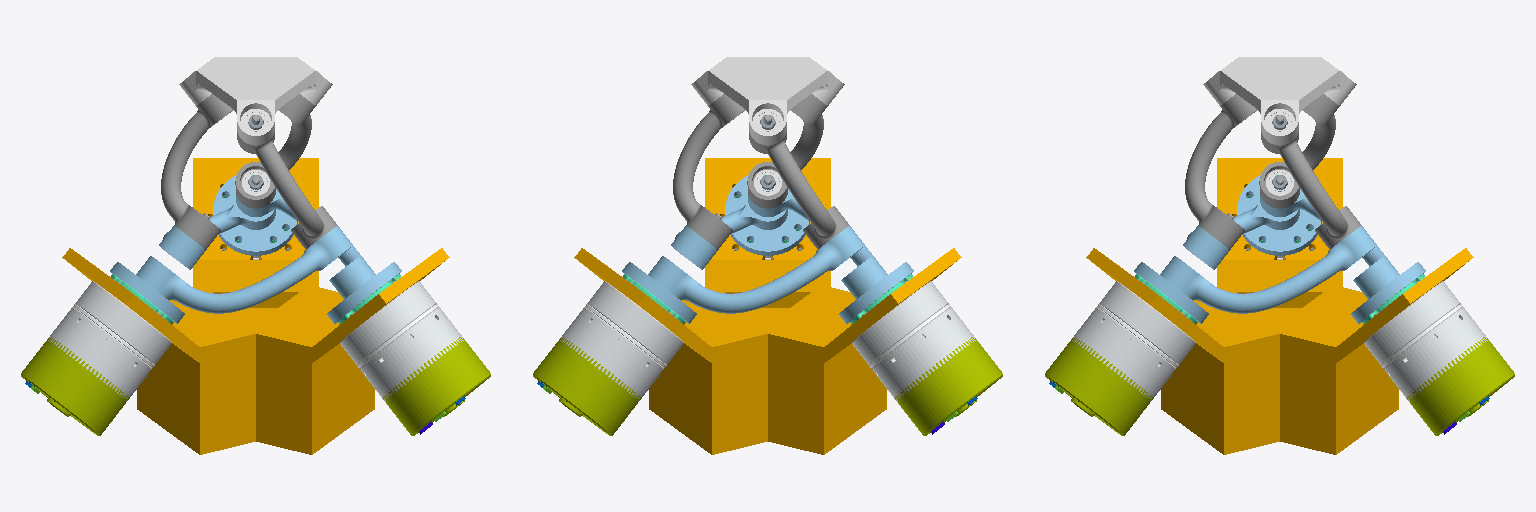
--- Facts derived from the render (not from the file) ---
The picture shows the robot from 3 angles, left to right: view 1: azimuth 30°, elevation 25°; view 2: azimuth 150°, elevation 25°; view 3: azimuth 270°, elevation 25°; orthographic projection.
Robot: spm — 13 links, 12 joints (7 revolute, 5 fixed); root link moteur_bati_v2; default pose: all joints at 0.
Visible links, largest first — view 1: moteur_bati_v2, 4_supporthead, 2_arbremoteur3, 2_arbremoteur3_3, 3_lien2_3, 3_lien2, 2_arbremoteur3_2, 3_lien2_2; view 2: moteur_bati_v2, 4_supporthead, 2_arbremoteur3_3, 2_arbremoteur3_2, 3_lien2_2, 3_lien2_3, 2_arbremoteur3, 3_lien2; view 3: moteur_bati_v2, 4_supporthead, 2_arbremoteur3_2, 2_arbremoteur3, 3_lien2, 3_lien2_2, 2_arbremoteur3_3, 3_lien2_3.
Boxes of the visible links, box(x1,y1,x2,y2) form: moteur_bati_v2: box(21, 158, 490, 454); 4_supporthead: box(179, 57, 332, 145); 2_arbremoteur3: box(110, 226, 352, 323); 2_arbremoteur3_3: box(159, 175, 297, 269); 3_lien2_3: box(161, 71, 233, 249); 3_lien2: box(237, 115, 337, 249); 2_arbremoteur3_2: box(236, 176, 401, 323); 3_lien2_2: box(236, 71, 319, 208); moteur_bati_v2: box(533, 158, 1002, 454); 4_supporthead: box(691, 57, 844, 145); 2_arbremoteur3_3: box(622, 226, 864, 323); 2_arbremoteur3_2: box(671, 175, 809, 269); 3_lien2_2: box(673, 71, 745, 249); 3_lien2_3: box(749, 115, 849, 249); 2_arbremoteur3: box(748, 176, 913, 323); 3_lien2: box(748, 71, 831, 208); moteur_bati_v2: box(1045, 158, 1514, 454); 4_supporthead: box(1203, 57, 1356, 145); 2_arbremoteur3_2: box(1134, 226, 1376, 323); 2_arbremoteur3: box(1183, 175, 1321, 269); 3_lien2: box(1185, 71, 1257, 249); 3_lien2_2: box(1261, 115, 1361, 249); 2_arbremoteur3_3: box(1260, 176, 1425, 323); 3_lien2_3: box(1260, 71, 1343, 208).
Bounding box of the posed robot: 0.1667 × 0.1862 × 0.146 m (x, y, z).
Meshes: 39 distinct files referenced, 125 mesh visuals loaded (38 binary STL); not drawn: 3 (reference not matched to a file when rendering).

The robot description file, URDF, robot "spm":
<?xml version="1.0" ?>
<!-- Generated using onshape-to-robot -->
<!-- Onshape https://cad.onshape.com/documents/d028fa2bf853f0c1089b2eda/w/07caf1293628e1642b8cee41/e/1a20b014b0a60532533cddf2 -->
<robot name="spm">
  <!-- Link moteur_bati_v2 -->
  <link name="moteur_bati_v2">
    <inertial>
      <origin xyz="-1.75928e-15 2.49372e-15 0.0444979" rpy="0 0 0"/>
      <mass value="0.925424"/>
      <inertia ixx="0.00239196" ixy="-7.45589e-17" ixz="5.10426e-17" iyy="0.00239196" iyz="-5.80928e-17" izz="0.00451909"/>
    </inertial>
    <!-- Part b08_cra_ri30_40_pro_xx_客户参考 -->
    <visual>
      <origin xyz="-0.0926361 0.0115732 0.0764594" rpy="2.35619 -2.01031e-14 1.5708"/>
      <geometry>
        <mesh filename="package://assets/b08_cra_ri30_40_pro_xx_客户参考.stl"/>
      </geometry>
      <material name="b08_cra_ri30_40_pro_xx_客户参考_material">
        <color rgba="1 1 1 1.0"/>
      </material>
    </visual>
    <!-- Part cra_ri30_40_pro_xx_后盖 -->
    <visual>
      <origin xyz="-0.0926361 0.0115732 0.0764594" rpy="2.35619 -2.01031e-14 1.5708"/>
      <geometry>
        <mesh filename="package://assets/cra_ri30_40_pro_xx_后盖.stl"/>
      </geometry>
      <material name="cra_ri30_40_pro_xx_后盖_material">
        <color rgba="0.690196 0.764706 0.0196078 1.0"/>
      </material>
    </visual>
    <!-- Part extruded_4_2 -->
    <visual>
      <origin xyz="-0.0926361 0.0115732 0.0764594" rpy="2.35619 -2.01031e-14 1.5708"/>
      <geometry>
        <mesh filename="package://assets/extruded_4_2.stl"/>
      </geometry>
      <material name="extruded_4_2_material">
        <color rgba="0.960784 0.796078 0.207843 1.0"/>
      </material>
    </visual>
    <!-- Part 1_bati3 -->
    <visual>
      <origin xyz="0.0280564 -0.0254488 0.0198908" rpy="0.785398 -0 0.523599"/>
      <geometry>
        <mesh filename="package://assets/1_bati3.stl"/>
      </geometry>
      <material name="1_bati3_material">
        <color rgba="0.980392 0.713725 0.00392157 1.0"/>
      </material>
    </visual>
    <!-- Part extruded_6 -->
    <visual>
      <origin xyz="-0.0926361 0.0115732 0.0764594" rpy="2.35619 -2.01031e-14 1.5708"/>
      <geometry>
        <mesh filename="package://assets/extruded_6.stl"/>
      </geometry>
      <material name="extruded_6_material">
        <color rgba="0.00784314 0.392157 0.72549 1.0"/>
      </material>
    </visual>
    <!-- Part extruded_1 -->
    <visual>
      <origin xyz="-0.0926361 0.0115732 0.0764594" rpy="2.35619 -2.01031e-14 1.5708"/>
      <geometry>
        <mesh filename="package://assets/extruded_1.stl"/>
      </geometry>
      <material name="extruded_1_material">
        <color rgba="0.14902 0.180392 0.435294 1.0"/>
      </material>
    </visual>
    <!-- Part cra_ri30_40_xx_柔轮盖 -->
    <visual>
      <origin xyz="-0.0926361 0.0115732 0.0764594" rpy="2.35619 -2.01031e-14 1.5708"/>
      <geometry>
        <mesh filename="package://assets/cra_ri30_40_xx_柔轮盖.stl"/>
      </geometry>
      <material name="cra_ri30_40_xx_柔轮盖_material">
        <color rgba="0.368627 0.941176 0.733333 1.0"/>
      </material>
    </visual>
    <!-- Part cross_recessed_countersunk_head_screws_gb1_gb_cross_screws_type4_m2x10_8_8__h_type_n_5 -->
    <visual>
      <origin xyz="-0.0926361 0.0115732 0.0764594" rpy="2.35619 -2.01031e-14 1.5708"/>
      <geometry>
        <mesh filename="package://assets/cross_recessed_countersunk_head_screws_gb1_gb_cross_screws_type4_m2x10_8_8__h_type_n_5.stl"/>
      </geometry>
      <material name="cross_recessed_countersunk_head_screws_gb1_gb_cross_screws_type4_m2x10_8_8__h_type_n_5_material">
        <color rgba="0.776471 0.756863 0.737255 1.0"/>
      </material>
    </visual>
    <!-- Part extruded_4_4 -->
    <visual>
      <origin xyz="-0.0926361 0.0115732 0.0764594" rpy="2.35619 -2.01031e-14 1.5708"/>
      <geometry>
        <mesh filename="package://assets/extruded_4_4.stl"/>
      </geometry>
      <material name="extruded_4_4_material">
        <color rgba="0.960784 0.796078 0.207843 1.0"/>
      </material>
    </visual>
    <!-- Part user_library_0805_2012m__cap -->
    <visual>
      <origin xyz="-0.0926361 0.0115732 0.0764594" rpy="2.35619 -2.01031e-14 1.5708"/>
      <geometry>
        <mesh filename="package://assets/user_library_0805_2012m__cap.stl"/>
      </geometry>
      <material name="user_library_0805_2012m__cap_material">
        <color rgba="0.0196078 0.498039 0.341176 1.0"/>
      </material>
    </visual>
    <!-- Part extruded_2 -->
    <visual>
      <origin xyz="-0.0926361 0.0115732 0.0764594" rpy="2.35619 -2.01031e-14 1.5708"/>
      <geometry>
        <mesh filename="package://assets/extruded_2.stl"/>
      </geometry>
      <material name="extruded_2_material">
        <color rgba="0.176471 0.0431373 0.792157 1.0"/>
      </material>
    </visual>
    <!-- Part user_library_0805_2012m__cap_2 -->
    <visual>
      <origin xyz="-0.0926361 0.0115732 0.0764594" rpy="2.35619 -2.01031e-14 1.5708"/>
      <geometry>
        <mesh filename="package://assets/user_library_0805_2012m__cap__2.stl"/>
      </geometry>
      <material name="user_library_0805_2012m__cap_2_material">
        <color rgba="1 1 1 1.0"/>
      </material>
    </visual>
    <!-- Part user_library_0805_2012m__cap_3 -->
    <visual>
      <origin xyz="-0.0926361 0.0115732 0.0764594" rpy="2.35619 -2.01031e-14 1.5708"/>
      <geometry>
        <mesh filename="package://assets/user_library_0805_2012m__cap__3.stl"/>
      </geometry>
      <material name="user_library_0805_2012m__cap_3_material">
        <color rgba="0.0196078 0.498039 0.341176 1.0"/>
      </material>
    </visual>
    <!-- Part extruded -->
    <visual>
      <origin xyz="-0.0926361 0.0115732 0.0764594" rpy="2.35619 -2.01031e-14 1.5708"/>
      <geometry>
        <mesh filename="package://assets/extruded.stl"/>
      </geometry>
      <material name="extruded_material">
        <color rgba="0.14902 0.180392 0.435294 1.0"/>
      </material>
    </visual>
    <!-- Part extruded_4_3 -->
    <visual>
      <origin xyz="-0.0926361 0.0115732 0.0764594" rpy="2.35619 -2.01031e-14 1.5708"/>
      <geometry>
        <mesh filename="package://assets/extruded_4_3.stl"/>
      </geometry>
      <material name="extruded_4_3_material">
        <color rgba="0.960784 0.796078 0.207843 1.0"/>
      </material>
    </visual>
    <!-- Part cra_ri30_40_xx_b_电机壳_1 -->
    <visual>
      <origin xyz="-0.0926361 0.0115732 0.0764594" rpy="2.35619 -2.01031e-14 1.5708"/>
      <geometry>
        <mesh filename="package://assets/cra_ri30_40_xx_b_电机壳_1.stl"/>
      </geometry>
      <material name="cra_ri30_40_xx_b_电机壳_1_material">
        <color rgba="0.898039 0.917647 0.929412 1.0"/>
      </material>
    </visual>
    <!-- Part cross_recessed_countersunk_head_screws_gb1_gb_cross_screws_type4_m2x10_8_8__h_type_n_2 -->
    <visual>
      <origin xyz="-0.0926361 0.0115732 0.0764594" rpy="2.35619 -2.01031e-14 1.5708"/>
      <geometry>
        <mesh filename="package://assets/cross_recessed_countersunk_head_screws_gb1_gb_cross_screws_type4_m2x10_8_8__h_type_n_2.stl"/>
      </geometry>
      <material name="cross_recessed_countersunk_head_screws_gb1_gb_cross_screws_type4_m2x10_8_8__h_type_n_2_material">
        <color rgba="0.776471 0.756863 0.737255 1.0"/>
      </material>
    </visual>
    <!-- Part cross_recessed_countersunk_head_screws_gb1_gb_cross_screws_type4_m2x10_8_8__h_type_n_6 -->
    <visual>
      <origin xyz="-0.0926361 0.0115732 0.0764594" rpy="2.35619 -2.01031e-14 1.5708"/>
      <geometry>
        <mesh filename="package://assets/cross_recessed_countersunk_head_screws_gb1_gb_cross_screws_type4_m2x10_8_8__h_type_n_6.stl"/>
      </geometry>
      <material name="cross_recessed_countersunk_head_screws_gb1_gb_cross_screws_type4_m2x10_8_8__h_type_n_6_material">
        <color rgba="0.776471 0.756863 0.737255 1.0"/>
      </material>
    </visual>
    <!-- Part lsg_8_减速器外圈固定_1 -->
    <visual>
      <origin xyz="-0.0926361 0.0115732 0.0764594" rpy="2.35619 -2.01031e-14 1.5708"/>
      <geometry>
        <mesh filename="package://assets/lsg_8_减速器外圈固定_1.stl"/>
      </geometry>
      <material name="lsg_8_减速器外圈固定_1_material">
        <color rgba="0.898039 0.917647 0.929412 1.0"/>
      </material>
    </visual>
    <!-- Part extruded_0 -->
    <visual>
      <origin xyz="-0.0926361 0.0115732 0.0764594" rpy="2.35619 -2.01031e-14 1.5708"/>
      <geometry>
        <mesh filename="package://assets/extruded_0.stl"/>
      </geometry>
      <material name="extruded_0_material">
        <color rgba="0.105882 0.580392 0.14902 1.0"/>
      </material>
    </visual>
    <!-- Part hexagon_socket_head_cap_screws_gb_gb_fastener_screws_hshcs_m2x20_n -->
    <visual>
      <origin xyz="-0.0926361 0.0115732 0.0764594" rpy="2.35619 -2.01031e-14 1.5708"/>
      <geometry>
        <mesh filename="package://assets/hexagon_socket_head_cap_screws_gb_gb_fastener_screws_hshcs_m2x20_n.stl"/>
      </geometry>
      <material name="hexagon_socket_head_cap_screws_gb_gb_fastener_screws_hshcs_m2x20_n_material">
        <color rgba="0.776471 0.756863 0.737255 1.0"/>
      </material>
    </visual>
    <!-- Part cross_recessed_countersunk_head_screws_gb1_gb_cross_screws_type4_m2x10_8_8__h_type_n_4 -->
    <visual>
      <origin xyz="-0.0926361 0.0115732 0.0764594" rpy="2.35619 -2.01031e-14 1.5708"/>
      <geometry>
        <mesh filename="package://assets/cross_recessed_countersunk_head_screws_gb1_gb_cross_screws_type4_m2x10_8_8__h_type_n_4.stl"/>
      </geometry>
      <material name="cross_recessed_countersunk_head_screws_gb1_gb_cross_screws_type4_m2x10_8_8__h_type_n_4_material">
        <color rgba="0.776471 0.756863 0.737255 1.0"/>
      </material>
    </visual>
    <!-- Part extruded_1_2 -->
    <visual>
      <origin xyz="-0.0926361 0.0115732 0.0764594" rpy="2.35619 -2.01031e-14 1.5708"/>
      <geometry>
        <mesh filename="package://assets/extruded_1__2.stl"/>
      </geometry>
      <material name="extruded_1_2_material">
        <color rgba="0.435294 0.792157 0.176471 1.0"/>
      </material>
    </visual>
    <!-- Part cross_recessed_countersunk_head_screws_gb1_gb_cross_screws_type4_m2x10_8_8__h_type_n_1 -->
    <visual>
      <origin xyz="-0.0926361 0.0115732 0.0764594" rpy="2.35619 -2.01031e-14 1.5708"/>
      <geometry>
        <mesh filename="package://assets/cross_recessed_countersunk_head_screws_gb1_gb_cross_screws_type4_m2x10_8_8__h_type_n_1.stl"/>
      </geometry>
      <material name="cross_recessed_countersunk_head_screws_gb1_gb_cross_screws_type4_m2x10_8_8__h_type_n_1_material">
        <color rgba="0.776471 0.756863 0.737255 1.0"/>
      </material>
    </visual>
    <!-- Part extruded_4_5 -->
    <visual>
      <origin xyz="-0.0926361 0.0115732 0.0764594" rpy="2.35619 -2.01031e-14 1.5708"/>
      <geometry>
        <mesh filename="package://assets/extruded_4_5.stl"/>
      </geometry>
      <material name="extruded_4_5_material">
        <color rgba="0.960784 0.796078 0.207843 1.0"/>
      </material>
    </visual>
    <!-- Part lsg_08_柔轮 -->
    <visual>
      <origin xyz="-0.0926361 0.0115732 0.0764594" rpy="2.35619 -2.01031e-14 1.5708"/>
      <geometry>
        <mesh filename="package://assets/lsg_08_柔轮.stl"/>
      </geometry>
      <material name="lsg_08_柔轮_material">
        <color rgba="1 1 1 1.0"/>
      </material>
    </visual>
    <!-- Part hexagon_socket_head_cap_screws_gb_gb_fastener_screws_hshcs_m2x20_n_1 -->
    <visual>
      <origin xyz="-0.0926361 0.0115732 0.0764594" rpy="2.35619 -2.01031e-14 1.5708"/>
      <geometry>
        <mesh filename="package://assets/hexagon_socket_head_cap_screws_gb_gb_fastener_screws_hshcs_m2x20_n_1.stl"/>
      </geometry>
      <material name="hexagon_socket_head_cap_screws_gb_gb_fastener_screws_hshcs_m2x20_n_1_material">
        <color rgba="0.776471 0.756863 0.737255 1.0"/>
      </material>
    </visual>
    <!-- Part extruded_5 -->
    <visual>
      <origin xyz="-0.0926361 0.0115732 0.0764594" rpy="2.35619 -2.01031e-14 1.5708"/>
      <geometry>
        <mesh filename="package://assets/extruded_5.stl"/>
      </geometry>
      <material name="extruded_5_material">
        <color rgba="0.792157 0.576471 0.509804 1.0"/>
      </material>
    </visual>
    <!-- Part extruded_4_1 -->
    <visual>
      <origin xyz="-0.0926361 0.0115732 0.0764594" rpy="2.35619 -2.01031e-14 1.5708"/>
      <geometry>
        <mesh filename="package://assets/extruded_4_1.stl"/>
      </geometry>
      <material name="extruded_4_1_material">
        <color rgba="0.960784 0.796078 0.207843 1.0"/>
      </material>
    </visual>
    <!-- Part cross_recessed_countersunk_head_screws_gb1_gb_cross_screws_type4_m2x10_8_8__h_type_n_3 -->
    <visual>
      <origin xyz="-0.0926361 0.0115732 0.0764594" rpy="2.35619 -2.01031e-14 1.5708"/>
      <geometry>
        <mesh filename="package://assets/cross_recessed_countersunk_head_screws_gb1_gb_cross_screws_type4_m2x10_8_8__h_type_n_3.stl"/>
      </geometry>
      <material name="cross_recessed_countersunk_head_screws_gb1_gb_cross_screws_type4_m2x10_8_8__h_type_n_3_material">
        <color rgba="0.776471 0.756863 0.737255 1.0"/>
      </material>
    </visual>
    <!-- Part cross_recessed_countersunk_head_screws_gb1_gb_cross_screws_type4_m2x10_8_8__h_type_n -->
    <visual>
      <origin xyz="-0.0926361 0.0115732 0.0764594" rpy="2.35619 -2.01031e-14 1.5708"/>
      <geometry>
        <mesh filename="package://assets/cross_recessed_countersunk_head_screws_gb1_gb_cross_screws_type4_m2x10_8_8__h_type_n.stl"/>
      </geometry>
      <material name="cross_recessed_countersunk_head_screws_gb1_gb_cross_screws_type4_m2x10_8_8__h_type_n_material">
        <color rgba="0.776471 0.756863 0.737255 1.0"/>
      </material>
    </visual>
    <!-- Part extruded_4 -->
    <visual>
      <origin xyz="-0.0926361 0.0115732 0.0764594" rpy="2.35619 -2.01031e-14 1.5708"/>
      <geometry>
        <mesh filename="package://assets/extruded_4.stl"/>
      </geometry>
      <material name="extruded_4_material">
        <color rgba="0.960784 0.796078 0.207843 1.0"/>
      </material>
    </visual>
    <!-- Part extruded_0_1 -->
    <visual>
      <origin xyz="-0.0926361 0.0115732 0.0764594" rpy="2.35619 -2.01031e-14 1.5708"/>
      <geometry>
        <mesh filename="package://assets/extruded_0_1.stl"/>
      </geometry>
      <material name="extruded_0_1_material">
        <color rgba="0.105882 0.580392 0.14902 1.0"/>
      </material>
    </visual>
    <!-- Part user_library_0805_2012m__cap_4 -->
    <visual>
      <origin xyz="0.0362954 -0.0860118 0.0764594" rpy="2.35619 1.99341e-16 -2.61799"/>
      <geometry>
        <mesh filename="package://assets/user_library_0805_2012m__cap__3.stl"/>
      </geometry>
      <material name="user_library_0805_2012m__cap_4_material">
        <color rgba="0.0196078 0.498039 0.341176 1.0"/>
      </material>
    </visual>
    <!-- Part cross_recessed_countersunk_head_screws_gb1_gb_cross_screws_type4_m2x10_8_8__h_type_n_4_2 -->
    <visual>
      <origin xyz="0.0362954 -0.0860118 0.0764594" rpy="2.35619 1.99341e-16 -2.61799"/>
      <geometry>
        <mesh filename="package://assets/cross_recessed_countersunk_head_screws_gb1_gb_cross_screws_type4_m2x10_8_8__h_type_n_4.stl"/>
      </geometry>
      <material name="cross_recessed_countersunk_head_screws_gb1_gb_cross_screws_type4_m2x10_8_8__h_type_n_4_2_material">
        <color rgba="0.776471 0.756863 0.737255 1.0"/>
      </material>
    </visual>
    <!-- Part cross_recessed_countersunk_head_screws_gb1_gb_cross_screws_type4_m2x10_8_8__h_type_n_1_2 -->
    <visual>
      <origin xyz="0.0362954 -0.0860118 0.0764594" rpy="2.35619 1.99341e-16 -2.61799"/>
      <geometry>
        <mesh filename="package://assets/cross_recessed_countersunk_head_screws_gb1_gb_cross_screws_type4_m2x10_8_8__h_type_n_1.stl"/>
      </geometry>
      <material name="cross_recessed_countersunk_head_screws_gb1_gb_cross_screws_type4_m2x10_8_8__h_type_n_1_2_material">
        <color rgba="0.776471 0.756863 0.737255 1.0"/>
      </material>
    </visual>
    <!-- Part hexagon_socket_head_cap_screws_gb_gb_fastener_screws_hshcs_m2x20_n_1_2 -->
    <visual>
      <origin xyz="0.0362954 -0.0860118 0.0764594" rpy="2.35619 1.99341e-16 -2.61799"/>
      <geometry>
        <mesh filename="package://assets/hexagon_socket_head_cap_screws_gb_gb_fastener_screws_hshcs_m2x20_n_1.stl"/>
      </geometry>
      <material name="hexagon_socket_head_cap_screws_gb_gb_fastener_screws_hshcs_m2x20_n_1_2_material">
        <color rgba="0.776471 0.756863 0.737255 1.0"/>
      </material>
    </visual>
    <!-- Part user_library_0805_2012m__cap_5 -->
    <visual>
      <origin xyz="0.0362954 -0.0860118 0.0764594" rpy="2.35619 1.99341e-16 -2.61799"/>
      <geometry>
        <mesh filename="package://assets/user_library_0805_2012m__cap.stl"/>
      </geometry>
      <material name="user_library_0805_2012m__cap_5_material">
        <color rgba="0.0196078 0.498039 0.341176 1.0"/>
      </material>
    </visual>
    <!-- Part extruded_4_2 -->
    <visual>
      <origin xyz="0.0362954 -0.0860118 0.0764594" rpy="2.35619 1.99341e-16 -2.61799"/>
      <geometry>
        <mesh filename="package://assets/extruded_4.stl"/>
      </geometry>
      <material name="extruded_4_2_material">
        <color rgba="0.960784 0.796078 0.207843 1.0"/>
      </material>
    </visual>
    <!-- Part extruded_4_3_2 -->
    <visual>
      <origin xyz="0.0563407 0.0744386 0.0764594" rpy="2.35619 3.18634e-14 -0.523599"/>
      <geometry>
        <mesh filename="package://assets/extruded_4_3.stl"/>
      </geometry>
      <material name="extruded_4_3_2_material">
        <color rgba="0.960784 0.796078 0.207843 1.0"/>
      </material>
    </visual>
    <!-- Part extruded_4_3_3 -->
    <visual>
      <origin xyz="0.0362954 -0.0860118 0.0764594" rpy="2.35619 1.99341e-16 -2.61799"/>
      <geometry>
        <mesh filename="package://assets/extruded_4_3.stl"/>
      </geometry>
      <material name="extruded_4_3_3_material">
        <color rgba="0.960784 0.796078 0.207843 1.0"/>
      </material>
    </visual>
    <!-- Part cross_recessed_countersunk_head_screws_gb1_gb_cross_screws_type4_m2x10_8_8__h_type_n_6_2 -->
    <visual>
      <origin xyz="0.0563407 0.0744386 0.0764594" rpy="2.35619 3.18634e-14 -0.523599"/>
      <geometry>
        <mesh filename="package://assets/cross_recessed_countersunk_head_screws_gb1_gb_cross_screws_type4_m2x10_8_8__h_type_n_6.stl"/>
      </geometry>
      <material name="cross_recessed_countersunk_head_screws_gb1_gb_cross_screws_type4_m2x10_8_8__h_type_n_6_2_material">
        <color rgba="0.776471 0.756863 0.737255 1.0"/>
      </material>
    </visual>
    <!-- Part cross_recessed_countersunk_head_screws_gb1_gb_cross_screws_type4_m2x10_8_8__h_type_n_6_3 -->
    <visual>
      <origin xyz="0.0362954 -0.0860118 0.0764594" rpy="2.35619 1.99341e-16 -2.61799"/>
      <geometry>
        <mesh filename="package://assets/cross_recessed_countersunk_head_screws_gb1_gb_cross_screws_type4_m2x10_8_8__h_type_n_6.stl"/>
      </geometry>
      <material name="cross_recessed_countersunk_head_screws_gb1_gb_cross_screws_type4_m2x10_8_8__h_type_n_6_3_material">
        <color rgba="0.776471 0.756863 0.737255 1.0"/>
      </material>
    </visual>
    <!-- Part extruded_6_2 -->
    <visual>
      <origin xyz="0.0362954 -0.0860118 0.0764594" rpy="2.35619 1.99341e-16 -2.61799"/>
      <geometry>
        <mesh filename="package://assets/extruded_6.stl"/>
      </geometry>
      <material name="extruded_6_2_material">
        <color rgba="0.00784314 0.392157 0.72549 1.0"/>
      </material>
    </visual>
    <!-- Part cross_recessed_countersunk_head_screws_gb1_gb_cross_screws_type4_m2x10_8_8__h_type_n_2_2 -->
    <visual>
      <origin xyz="0.0563407 0.0744386 0.0764594" rpy="2.35619 3.18634e-14 -0.523599"/>
      <geometry>
        <mesh filename="package://assets/cross_recessed_countersunk_head_screws_gb1_gb_cross_screws_type4_m2x10_8_8__h_type_n_2.stl"/>
      </geometry>
      <material name="cross_recessed_countersunk_head_screws_gb1_gb_cross_screws_type4_m2x10_8_8__h_type_n_2_2_material">
        <color rgba="0.776471 0.756863 0.737255 1.0"/>
      </material>
    </visual>
    <!-- Part cra_ri30_40_pro_xx_后盖_2 -->
    <visual>
      <origin xyz="0.0362954 -0.0860118 0.0764594" rpy="2.35619 6.00895e-16 -2.61799"/>
      <geometry>
        <mesh filename="package://assets/cra_ri30_40_pro_xx_后盖.stl"/>
      </geometry>
      <material name="cra_ri30_40_pro_xx_后盖_2_material">
        <color rgba="0.690196 0.764706 0.0196078 1.0"/>
      </material>
    </visual>
    <!-- Part extruded_0_1_2 -->
    <visual>
      <origin xyz="0.0362954 -0.0860118 0.0764594" rpy="2.35619 1.99341e-16 -2.61799"/>
      <geometry>
        <mesh filename="package://assets/extruded_0_1.stl"/>
      </geometry>
      <material name="extruded_0_1_2_material">
        <color rgba="0.105882 0.580392 0.14902 1.0"/>
      </material>
    </visual>
    <!-- Part cra_ri30_40_xx_b_电机壳_1_2 -->
    <visual>
      <origin xyz="0.0362954 -0.0860118 0.0764594" rpy="2.35619 1.99341e-16 -2.61799"/>
      <geometry>
        <mesh filename="package://assets/cra_ri30_40_xx_b_电机壳_1.stl"/>
      </geometry>
      <material name="cra_ri30_40_xx_b_电机壳_1_2_material">
        <color rgba="0.898039 0.917647 0.929412 1.0"/>
      </material>
    </visual>
    <!-- Part extruded_0_1_3 -->
    <visual>
      <origin xyz="0.0563407 0.0744386 0.0764594" rpy="2.35619 3.18634e-14 -0.523599"/>
      <geometry>
        <mesh filename="package://assets/extruded_0_1.stl"/>
      </geometry>
      <material name="extruded_0_1_3_material">
        <color rgba="0.105882 0.580392 0.14902 1.0"/>
      </material>
    </visual>
    <!-- Part extruded_1_3 -->
    <visual>
      <origin xyz="0.0563407 0.0744386 0.0764594" rpy="2.35619 3.18634e-14 -0.523599"/>
      <geometry>
        <mesh filename="package://assets/extruded_1__2.stl"/>
      </geometry>
      <material name="extruded_1_3_material">
        <color rgba="0.435294 0.792157 0.176471 1.0"/>
      </material>
    </visual>
    <!-- Part cross_recessed_countersunk_head_screws_gb1_gb_cross_screws_type4_m2x10_8_8__h_type_n_2 -->
    <visual>
      <origin xyz="0.0362954 -0.0860118 0.0764594" rpy="2.35619 1.99341e-16 -2.61799"/>
      <geometry>
        <mesh filename="package://assets/cross_recessed_countersunk_head_screws_gb1_gb_cross_screws_type4_m2x10_8_8__h_type_n.stl"/>
      </geometry>
      <material name="cross_recessed_countersunk_head_screws_gb1_gb_cross_screws_type4_m2x10_8_8__h_type_n_2_material">
        <color rgba="0.776471 0.756863 0.737255 1.0"/>
      </material>
    </visual>
    <!-- Part extruded_2 -->
    <visual>
      <origin xyz="0.0362954 -0.0860118 0.0764594" rpy="2.35619 1.99341e-16 -2.61799"/>
      <geometry>
        <mesh filename="package://assets/extruded.stl"/>
      </geometry>
      <material name="extruded_2_material">
        <color rgba="0.14902 0.180392 0.435294 1.0"/>
      </material>
    </visual>
    <!-- Part extruded_2_2 -->
    <visual>
      <origin xyz="0.0362954 -0.0860118 0.0764594" rpy="2.35619 1.99341e-16 -2.61799"/>
      <geometry>
        <mesh filename="package://assets/extruded_2.stl"/>
      </geometry>
      <material name="extruded_2_2_material">
        <color rgba="0.176471 0.0431373 0.792157 1.0"/>
      </material>
    </visual>
    <!-- Part user_library_0805_2012m__cap_6 -->
    <visual>
      <origin xyz="0.0563407 0.0744386 0.0764594" rpy="2.35619 3.18634e-14 -0.523599"/>
      <geometry>
        <mesh filename="package://assets/user_library_0805_2012m__cap__2.stl"/>
      </geometry>
      <material name="user_library_0805_2012m__cap_6_material">
        <color rgba="1 1 1 1.0"/>
      </material>
    </visual>
    <!-- Part extruded_4_4_2 -->
    <visual>
      <origin xyz="0.0563407 0.0744386 0.0764594" rpy="2.35619 3.18634e-14 -0.523599"/>
      <geometry>
        <mesh filename="package://assets/extruded_4_4.stl"/>
      </geometry>
      <material name="extruded_4_4_2_material">
        <color rgba="0.960784 0.796078 0.207843 1.0"/>
      </material>
    </visual>
    <!-- Part extruded_1_4 -->
    <visual>
      <origin xyz="0.0563407 0.0744386 0.0764594" rpy="2.35619 3.18634e-14 -0.523599"/>
      <geometry>
        <mesh filename="package://assets/extruded_1.stl"/>
      </geometry>
      <material name="extruded_1_4_material">
        <color rgba="0.14902 0.180392 0.435294 1.0"/>
      </material>
    </visual>
    <!-- Part cra_ri30_40_xx_柔轮盖_2 -->
    <visual>
      <origin xyz="0.0362954 -0.0860118 0.0764594" rpy="2.35619 1.99341e-16 -2.61799"/>
      <geometry>
        <mesh filename="package://assets/cra_ri30_40_xx_柔轮盖.stl"/>
      </geometry>
      <material name="cra_ri30_40_xx_柔轮盖_2_material">
        <color rgba="0.368627 0.941176 0.733333 1.0"/>
      </material>
    </visual>
    <!-- Part cross_recessed_countersunk_head_screws_gb1_gb_cross_screws_type4_m2x10_8_8__h_type_n_2_3 -->
    <visual>
      <origin xyz="0.0362954 -0.0860118 0.0764594" rpy="2.35619 1.99341e-16 -2.61799"/>
      <geometry>
        <mesh filename="package://assets/cross_recessed_countersunk_head_screws_gb1_gb_cross_screws_type4_m2x10_8_8__h_type_n_2.stl"/>
      </geometry>
      <material name="cross_recessed_countersunk_head_screws_gb1_gb_cross_screws_type4_m2x10_8_8__h_type_n_2_3_material">
        <color rgba="0.776471 0.756863 0.737255 1.0"/>
      </material>
    </visual>
    <!-- Part extruded_6_3 -->
    <visual>
      <origin xyz="0.0563407 0.0744386 0.0764594" rpy="2.35619 3.18634e-14 -0.523599"/>
      <geometry>
        <mesh filename="package://assets/extruded_6.stl"/>
      </geometry>
      <material name="extruded_6_3_material">
        <color rgba="0.00784314 0.392157 0.72549 1.0"/>
      </material>
    </visual>
    <!-- Part extruded_3 -->
    <visual>
      <origin xyz="0.0563407 0.0744386 0.0764594" rpy="2.35619 3.18634e-14 -0.523599"/>
      <geometry>
        <mesh filename="package://assets/extruded.stl"/>
      </geometry>
      <material name="extruded_3_material">
        <color rgba="0.14902 0.180392 0.435294 1.0"/>
      </material>
    </visual>
    <!-- Part lsg_8_减速器外圈固定_1_2 -->
    <visual>
      <origin xyz="0.0563407 0.0744386 0.0764594" rpy="2.35619 3.18634e-14 -0.523599"/>
      <geometry>
        <mesh filename="package://assets/lsg_8_减速器外圈固定_1.stl"/>
      </geometry>
      <material name="lsg_8_减速器外圈固定_1_2_material">
        <color rgba="0.898039 0.917647 0.929412 1.0"/>
      </material>
    </visual>
    <!-- Part lsg_08_柔轮_2 -->
    <visual>
      <origin xyz="0.0563407 0.0744386 0.0764594" rpy="2.35619 3.18634e-14 -0.523599"/>
      <geometry>
        <mesh filename="package://assets/lsg_08_柔轮.stl"/>
      </geometry>
      <material name="lsg_08_柔轮_2_material">
        <color rgba="1 1 1 1.0"/>
      </material>
    </visual>
    <!-- Part cra_ri30_40_xx_柔轮盖_3 -->
    <visual>
      <origin xyz="0.0563407 0.0744386 0.0764594" rpy="2.35619 3.18634e-14 -0.523599"/>
      <geometry>
        <mesh filename="package://assets/cra_ri30_40_xx_柔轮盖.stl"/>
      </geometry>
      <material name="cra_ri30_40_xx_柔轮盖_3_material">
        <color rgba="0.368627 0.941176 0.733333 1.0"/>
      </material>
    </visual>
    <!-- Part extruded_5_2 -->
    <visual>
      <origin xyz="0.0362954 -0.0860118 0.0764594" rpy="2.35619 1.99341e-16 -2.61799"/>
      <geometry>
        <mesh filename="package://assets/extruded_5.stl"/>
      </geometry>
      <material name="extruded_5_2_material">
        <color rgba="0.792157 0.576471 0.509804 1.0"/>
      </material>
    </visual>
    <!-- Part extruded_5_3 -->
    <visual>
      <origin xyz="0.0563407 0.0744386 0.0764594" rpy="2.35619 3.18634e-14 -0.523599"/>
      <geometry>
        <mesh filename="package://assets/extruded_5.stl"/>
      </geometry>
      <material name="extruded_5_3_material">
        <color rgba="0.792157 0.576471 0.509804 1.0"/>
      </material>
    </visual>
    <!-- Part cross_recessed_countersunk_head_screws_gb1_gb_cross_screws_type4_m2x10_8_8__h_type_n_3 -->
    <visual>
      <origin xyz="0.0563407 0.0744386 0.0764594" rpy="2.35619 3.18634e-14 -0.523599"/>
      <geometry>
        <mesh filename="package://assets/cross_recessed_countersunk_head_screws_gb1_gb_cross_screws_type4_m2x10_8_8__h_type_n.stl"/>
      </geometry>
      <material name="cross_recessed_countersunk_head_screws_gb1_gb_cross_screws_type4_m2x10_8_8__h_type_n_3_material">
        <color rgba="0.776471 0.756863 0.737255 1.0"/>
      </material>
    </visual>
    <!-- Part cross_recessed_countersunk_head_screws_gb1_gb_cross_screws_type4_m2x10_8_8__h_type_n_3_2 -->
    <visual>
      <origin xyz="0.0362954 -0.0860118 0.0764594" rpy="2.35619 1.99341e-16 -2.61799"/>
      <geometry>
        <mesh filename="package://assets/cross_recessed_countersunk_head_screws_gb1_gb_cross_screws_type4_m2x10_8_8__h_type_n_3.stl"/>
      </geometry>
      <material name="cross_recessed_countersunk_head_screws_gb1_gb_cross_screws_type4_m2x10_8_8__h_type_n_3_2_material">
        <color rgba="0.776471 0.756863 0.737255 1.0"/>
      </material>
    </visual>
    <!-- Part extruded_1_5 -->
    <visual>
      <origin xyz="0.0362954 -0.0860118 0.0764594" rpy="2.35619 1.99341e-16 -2.61799"/>
      <geometry>
        <mesh filename="package://assets/extruded_1__2.stl"/>
      </geometry>
      <material name="extruded_1_5_material">
        <color rgba="0.435294 0.792157 0.176471 1.0"/>
      </material>
    </visual>
    <!-- Part extruded_4_2_2 -->
    <visual>
      <origin xyz="0.0563407 0.0744386 0.0764594" rpy="2.35619 3.18634e-14 -0.523599"/>
      <geometry>
        <mesh filename="package://assets/extruded_4_2.stl"/>
      </geometry>
      <material name="extruded_4_2_2_material">
        <color rgba="0.960784 0.796078 0.207843 1.0"/>
      </material>
    </visual>
    <!-- Part b08_cra_ri30_40_pro_xx_客户参考_2 -->
    <visual>
      <origin xyz="0.0563407 0.0744386 0.0764594" rpy="2.35619 3.18634e-14 -0.523599"/>
      <geometry>
        <mesh filename="package://assets/b08_cra_ri30_40_pro_xx_客户参考.stl"/>
      </geometry>
      <material name="b08_cra_ri30_40_pro_xx_客户参考_2_material">
        <color rgba="1 1 1 1.0"/>
      </material>
    </visual>
    <!-- Part cra_ri30_40_xx_b_电机壳_1_3 -->
    <visual>
      <origin xyz="0.0563407 0.0744386 0.0764594" rpy="2.35619 3.18634e-14 -0.523599"/>
      <geometry>
        <mesh filename="package://assets/cra_ri30_40_xx_b_电机壳_1.stl"/>
      </geometry>
      <material name="cra_ri30_40_xx_b_电机壳_1_3_material">
        <color rgba="0.898039 0.917647 0.929412 1.0"/>
      </material>
    </visual>
    <!-- Part extruded_1_6 -->
    <visual>
      <origin xyz="0.0362954 -0.0860118 0.0764594" rpy="2.35619 1.99341e-16 -2.61799"/>
      <geometry>
        <mesh filename="package://assets/extruded_1.stl"/>
      </geometry>
      <material name="extruded_1_6_material">
        <color rgba="0.14902 0.180392 0.435294 1.0"/>
      </material>
    </visual>
    <!-- Part extruded_0_2 -->
    <visual>
      <origin xyz="0.0362954 -0.0860118 0.0764594" rpy="2.35619 1.99341e-16 -2.61799"/>
      <geometry>
        <mesh filename="package://assets/extruded_0.stl"/>
      </geometry>
      <material name="extruded_0_2_material">
        <color rgba="0.105882 0.580392 0.14902 1.0"/>
      </material>
    </visual>
    <!-- Part lsg_08_柔轮_3 -->
    <visual>
      <origin xyz="0.0362954 -0.0860118 0.0764594" rpy="2.35619 1.99341e-16 -2.61799"/>
      <geometry>
        <mesh filename="package://assets/lsg_08_柔轮.stl"/>
      </geometry>
      <material name="lsg_08_柔轮_3_material">
        <color rgba="1 1 1 1.0"/>
      </material>
    </visual>
    <!-- Part user_library_0805_2012m__cap_7 -->
    <visual>
      <origin xyz="0.0563407 0.0744386 0.0764594" rpy="2.35619 3.18634e-14 -0.523599"/>
      <geometry>
        <mesh filename="package://assets/user_library_0805_2012m__cap__3.stl"/>
      </geometry>
      <material name="user_library_0805_2012m__cap_7_material">
        <color rgba="0.0196078 0.498039 0.341176 1.0"/>
      </material>
    </visual>
    <!-- Part hexagon_socket_head_cap_screws_gb_gb_fastener_screws_hshcs_m2x20_n_2 -->
    <visual>
      <origin xyz="0.0563407 0.0744386 0.0764594" rpy="2.35619 3.18634e-14 -0.523599"/>
      <geometry>
        <mesh filename="package://assets/hexagon_socket_head_cap_screws_gb_gb_fastener_screws_hshcs_m2x20_n.stl"/>
      </geometry>
      <material name="hexagon_socket_head_cap_screws_gb_gb_fastener_screws_hshcs_m2x20_n_2_material">
        <color rgba="0.776471 0.756863 0.737255 1.0"/>
      </material>
    </visual>
    <!-- Part extruded_4_1_2 -->
    <visual>
      <origin xyz="0.0563407 0.0744386 0.0764594" rpy="2.35619 3.18634e-14 -0.523599"/>
      <geometry>
        <mesh filename="package://assets/extruded_4_1.stl"/>
      </geometry>
      <material name="extruded_4_1_2_material">
        <color rgba="0.960784 0.796078 0.207843 1.0"/>
      </material>
    </visual>
    <!-- Part hexagon_socket_head_cap_screws_gb_gb_fastener_screws_hshcs_m2x20_n_1_3 -->
    <visual>
      <origin xyz="0.0563407 0.0744386 0.0764594" rpy="2.35619 3.18634e-14 -0.523599"/>
      <geometry>
        <mesh filename="package://assets/hexagon_socket_head_cap_screws_gb_gb_fastener_screws_hshcs_m2x20_n_1.stl"/>
      </geometry>
      <material name="hexagon_socket_head_cap_screws_gb_gb_fastener_screws_hshcs_m2x20_n_1_3_material">
        <color rgba="0.776471 0.756863 0.737255 1.0"/>
      </material>
    </visual>
    <!-- Part b08_cra_ri30_40_pro_xx_客户参考_3 -->
    <visual>
      <origin xyz="0.0362954 -0.0860118 0.0764594" rpy="2.35619 1.99341e-16 -2.61799"/>
      <geometry>
        <mesh filename="package://assets/b08_cra_ri30_40_pro_xx_客户参考.stl"/>
      </geometry>
      <material name="b08_cra_ri30_40_pro_xx_客户参考_3_material">
        <color rgba="1 1 1 1.0"/>
      </material>
    </visual>
    <!-- Part cross_recessed_countersunk_head_screws_gb1_gb_cross_screws_type4_m2x10_8_8__h_type_n_5_2 -->
    <visual>
      <origin xyz="0.0563407 0.0744386 0.0764594" rpy="2.35619 3.18634e-14 -0.523599"/>
      <geometry>
        <mesh filename="package://assets/cross_recessed_countersunk_head_screws_gb1_gb_cross_screws_type4_m2x10_8_8__h_type_n_5.stl"/>
      </geometry>
      <material name="cross_recessed_countersunk_head_screws_gb1_gb_cross_screws_type4_m2x10_8_8__h_type_n_5_2_material">
        <color rgba="0.776471 0.756863 0.737255 1.0"/>
      </material>
    </visual>
    <!-- Part user_library_0805_2012m__cap_8 -->
    <visual>
      <origin xyz="0.0362954 -0.0860118 0.0764594" rpy="2.35619 1.99341e-16 -2.61799"/>
      <geometry>
        <mesh filename="package://assets/user_library_0805_2012m__cap__2.stl"/>
      </geometry>
      <material name="user_library_0805_2012m__cap_8_material">
        <color rgba="1 1 1 1.0"/>
      </material>
    </visual>
    <!-- Part extruded_4_3 -->
    <visual>
      <origin xyz="0.0563407 0.0744386 0.0764594" rpy="2.35619 3.18634e-14 -0.523599"/>
      <geometry>
        <mesh filename="package://assets/extruded_4.stl"/>
      </geometry>
      <material name="extruded_4_3_material">
        <color rgba="0.960784 0.796078 0.207843 1.0"/>
      </material>
    </visual>
    <!-- Part cross_recessed_countersunk_head_screws_gb1_gb_cross_screws_type4_m2x10_8_8__h_type_n_1_3 -->
    <visual>
      <origin xyz="0.0563407 0.0744386 0.0764594" rpy="2.35619 3.18634e-14 -0.523599"/>
      <geometry>
        <mesh filename="package://assets/cross_recessed_countersunk_head_screws_gb1_gb_cross_screws_type4_m2x10_8_8__h_type_n_1.stl"/>
      </geometry>
      <material name="cross_recessed_countersunk_head_screws_gb1_gb_cross_screws_type4_m2x10_8_8__h_type_n_1_3_material">
        <color rgba="0.776471 0.756863 0.737255 1.0"/>
      </material>
    </visual>
    <!-- Part cross_recessed_countersunk_head_screws_gb1_gb_cross_screws_type4_m2x10_8_8__h_type_n_3_3 -->
    <visual>
      <origin xyz="0.0563407 0.0744386 0.0764594" rpy="2.35619 3.18634e-14 -0.523599"/>
      <geometry>
        <mesh filename="package://assets/cross_recessed_countersunk_head_screws_gb1_gb_cross_screws_type4_m2x10_8_8__h_type_n_3.stl"/>
      </geometry>
      <material name="cross_recessed_countersunk_head_screws_gb1_gb_cross_screws_type4_m2x10_8_8__h_type_n_3_3_material">
        <color rgba="0.776471 0.756863 0.737255 1.0"/>
      </material>
    </visual>
    <!-- Part extruded_4_2_3 -->
    <visual>
      <origin xyz="0.0362954 -0.0860118 0.0764594" rpy="2.35619 1.99341e-16 -2.61799"/>
      <geometry>
        <mesh filename="package://assets/extruded_4_2.stl"/>
      </geometry>
      <material name="extruded_4_2_3_material">
        <color rgba="0.960784 0.796078 0.207843 1.0"/>
      </material>
    </visual>
    <!-- Part cross_recessed_countersunk_head_screws_gb1_gb_cross_screws_type4_m2x10_8_8__h_type_n_5_3 -->
    <visual>
      <origin xyz="0.0362954 -0.0860118 0.0764594" rpy="2.35619 1.99341e-16 -2.61799"/>
      <geometry>
        <mesh filename="package://assets/cross_recessed_countersunk_head_screws_gb1_gb_cross_screws_type4_m2x10_8_8__h_type_n_5.stl"/>
      </geometry>
      <material name="cross_recessed_countersunk_head_screws_gb1_gb_cross_screws_type4_m2x10_8_8__h_type_n_5_3_material">
        <color rgba="0.776471 0.756863 0.737255 1.0"/>
      </material>
    </visual>
    <!-- Part user_library_0805_2012m__cap_9 -->
    <visual>
      <origin xyz="0.0563407 0.0744386 0.0764594" rpy="2.35619 3.18634e-14 -0.523599"/>
      <geometry>
        <mesh filename="package://assets/user_library_0805_2012m__cap.stl"/>
      </geometry>
      <material name="user_library_0805_2012m__cap_9_material">
        <color rgba="0.0196078 0.498039 0.341176 1.0"/>
      </material>
    </visual>
    <!-- Part cross_recessed_countersunk_head_screws_gb1_gb_cross_screws_type4_m2x10_8_8__h_type_n_4_3 -->
    <visual>
      <origin xyz="0.0563407 0.0744386 0.0764594" rpy="2.35619 3.18634e-14 -0.523599"/>
      <geometry>
        <mesh filename="package://assets/cross_recessed_countersunk_head_screws_gb1_gb_cross_screws_type4_m2x10_8_8__h_type_n_4.stl"/>
      </geometry>
      <material name="cross_recessed_countersunk_head_screws_gb1_gb_cross_screws_type4_m2x10_8_8__h_type_n_4_3_material">
        <color rgba="0.776471 0.756863 0.737255 1.0"/>
      </material>
    </visual>
    <!-- Part extruded_0_3 -->
    <visual>
      <origin xyz="0.0563407 0.0744386 0.0764594" rpy="2.35619 3.18634e-14 -0.523599"/>
      <geometry>
        <mesh filename="package://assets/extruded_0.stl"/>
      </geometry>
      <material name="extruded_0_3_material">
        <color rgba="0.105882 0.580392 0.14902 1.0"/>
      </material>
    </visual>
    <!-- Part hexagon_socket_head_cap_screws_gb_gb_fastener_screws_hshcs_m2x20_n_3 -->
    <visual>
      <origin xyz="0.0362954 -0.0860118 0.0764594" rpy="2.35619 1.99341e-16 -2.61799"/>
      <geometry>
        <mesh filename="package://assets/hexagon_socket_head_cap_screws_gb_gb_fastener_screws_hshcs_m2x20_n.stl"/>
      </geometry>
      <material name="hexagon_socket_head_cap_screws_gb_gb_fastener_screws_hshcs_m2x20_n_3_material">
        <color rgba="0.776471 0.756863 0.737255 1.0"/>
      </material>
    </visual>
    <!-- Part extruded_4_4_3 -->
    <visual>
      <origin xyz="0.0362954 -0.0860118 0.0764594" rpy="2.35619 1.99341e-16 -2.61799"/>
      <geometry>
        <mesh filename="package://assets/extruded_4_4.stl"/>
      </geometry>
      <material name="extruded_4_4_3_material">
        <color rgba="0.960784 0.796078 0.207843 1.0"/>
      </material>
    </visual>
    <!-- Part extruded_4_5_2 -->
    <visual>
      <origin xyz="0.0563407 0.0744386 0.0764594" rpy="2.35619 3.18634e-14 -0.523599"/>
      <geometry>
        <mesh filename="package://assets/extruded_4_5.stl"/>
      </geometry>
      <material name="extruded_4_5_2_material">
        <color rgba="0.960784 0.796078 0.207843 1.0"/>
      </material>
    </visual>
    <!-- Part lsg_8_减速器外圈固定_1_3 -->
    <visual>
      <origin xyz="0.0362954 -0.0860118 0.0764594" rpy="2.35619 1.607e-16 -2.61799"/>
      <geometry>
        <mesh filename="package://assets/lsg_8_减速器外圈固定_1.stl"/>
      </geometry>
      <material name="lsg_8_减速器外圈固定_1_3_material">
        <color rgba="0.898039 0.917647 0.929412 1.0"/>
      </material>
    </visual>
    <!-- Part cra_ri30_40_pro_xx_后盖_3 -->
    <visual>
      <origin xyz="0.0563407 0.0744386 0.0764594" rpy="2.35619 3.18634e-14 -0.523599"/>
      <geometry>
        <mesh filename="package://assets/cra_ri30_40_pro_xx_后盖.stl"/>
      </geometry>
      <material name="cra_ri30_40_pro_xx_后盖_3_material">
        <color rgba="0.690196 0.764706 0.0196078 1.0"/>
      </material>
    </visual>
    <!-- Part extruded_2_3 -->
    <visual>
      <origin xyz="0.0563407 0.0744386 0.0764594" rpy="2.35619 3.18634e-14 -0.523599"/>
      <geometry>
        <mesh filename="package://assets/extruded_2.stl"/>
      </geometry>
      <material name="extruded_2_3_material">
        <color rgba="0.176471 0.0431373 0.792157 1.0"/>
      </material>
    </visual>
    <!-- Part extruded_4_5_3 -->
    <visual>
      <origin xyz="0.0362954 -0.0860118 0.0764594" rpy="2.35619 1.99341e-16 -2.61799"/>
      <geometry>
        <mesh filename="package://assets/extruded_4_5.stl"/>
      </geometry>
      <material name="extruded_4_5_3_material">
        <color rgba="0.960784 0.796078 0.207843 1.0"/>
      </material>
    </visual>
    <!-- Part extruded_4_1_3 -->
    <visual>
      <origin xyz="0.0362954 -0.0860118 0.0764594" rpy="2.35619 1.99341e-16 -2.61799"/>
      <geometry>
        <mesh filename="package://assets/extruded_4_1.stl"/>
      </geometry>
      <material name="extruded_4_1_3_material">
        <color rgba="0.960784 0.796078 0.207843 1.0"/>
      </material>
    </visual>
  </link>
  <!-- Link 2_arbremoteur3 -->
  <link name="2_arbremoteur3">
    <inertial>
      <origin xyz="0.0107909 -0.00909413 -0.0175921" rpy="0 0 0"/>
      <mass value="0.0293635"/>
      <inertia ixx="1.73972e-05" ixy="4.85555e-06" ixz="6.98022e-06" iyy="1.81718e-05" iyz="-7.26176e-06" izz="1.24115e-05"/>
    </inertial>
    <!-- Part dbtm3_14_5 -->
    <visual>
      <origin xyz="0.0307218 -0.0376264 -0.0600264" rpy="-1.36944 0.25268 2.25552"/>
      <geometry>
        <mesh filename="package://assets/dbtm3_14_5.stl"/>
      </geometry>
      <material name="dbtm3_14_5_material">
        <color rgba="0.690196 0.690196 0.690196 1.0"/>
      </material>
    </visual>
    <!-- Part 2_arbremoteur3 -->
    <visual>
      <origin xyz="0.0115732 -0.04 0.0184386" rpy="-1.5708 1.14939e-30 -8.75143e-31"/>
      <geometry>
        <mesh filename="package://assets/2_arbremoteur3.stl"/>
      </geometry>
      <material name="2_arbremoteur3_material">
        <color rgba="0.615686 0.811765 0.929412 1.0"/>
      </material>
    </visual>
    <collision>
      <origin xyz="0.0115732 -0.04 0.0184386" rpy="-1.5708 1.14939e-30 -8.75143e-31"/>
      <geometry>
        <mesh filename="package://assets/2_arbremoteur3.stl"/>
      </geometry>
    </collision>
    <!-- Part sfl676zz -->
    <visual>
      <origin xyz="0.0288847 -0.0353764 -0.0607764" rpy="-1.77215 -0.25268 -0.886077"/>
      <geometry>
        <mesh filename="package://assets/sfl676zz.stl"/>
      </geometry>
      <material name="sfl676zz_material">
        <color rgba="0.917647 0.917647 0.917647 1.0"/>
      </material>
    </visual>
  </link>
  <!-- Link 3_lien2 -->
  <link name="3_lien2">
    <inertial>
      <origin xyz="0.0153881 0.00162035 -0.0217923" rpy="0 0 0"/>
      <mass value="0.0118051"/>
      <inertia ixx="3.6573e-06" ixy="-1.03018e-07" ixz="1.62019e-06" iyy="4.83538e-06" iyz="-2.61509e-08" izz="1.52639e-06"/>
    </inertial>
    <!-- Part dbtm3_14_5_2 -->
    <visual>
      <origin xyz="0.0206151 2.22045e-15 -0.0478913" rpy="3.14159 0.25268 9.10057e-15"/>
      <geometry>
        <mesh filename="package://assets/dbtm3_14_5.stl"/>
      </geometry>
      <material name="dbtm3_14_5_2_material">
        <color rgba="0.690196 0.690196 0.690196 1.0"/>
      </material>
    </visual>
    <!-- Part sfl676zz_2 -->
    <visual>
      <origin xyz="-2.77556e-17 1.38778e-17 -0.0046" rpy="3.14159 1.5708 0"/>
      <geometry>
        <mesh filename="package://assets/sfl676zz.stl"/>
      </geometry>
      <material name="sfl676zz_2_material">
        <color rgba="0.917647 0.917647 0.917647 1.0"/>
      </material>
    </visual>
    <!-- Part sfl676zz_3 -->
    <visual>
      <origin xyz="0.0235199 2.24126e-15 -0.0486413" rpy="9.03006e-15 -0.25268 -3.14159"/>
      <geometry>
        <mesh filename="package://assets/sfl676zz.stl"/>
      </geometry>
      <material name="sfl676zz_3_material">
        <color rgba="0.917647 0.917647 0.917647 1.0"/>
      </material>
    </visual>
    <!-- Part 3_lien2 -->
    <visual>
      <origin xyz="-0.031712 0.0736879 0.0172703" rpy="-2.81984 -0.659058 8.2896e-15"/>
      <geometry>
        <mesh filename="package://assets/3_lien2.stl"/>
      </geometry>
      <material name="3_lien2_material">
        <color rgba="0.647059 0.647059 0.647059 1.0"/>
      </material>
    </visual>
    <collision>
      <origin xyz="-0.031712 0.0736879 0.0172703" rpy="-2.81984 -0.659058 8.2896e-15"/>
      <geometry>
        <mesh filename="package://assets/3_lien2.stl"/>
      </geometry>
    </collision>
    <!-- Part hex_thin_nut_grade_a___b_m3__1f32078b7141c356c1ef5a853a7893b2 -->
    <visual>
      <origin xyz="-2.77556e-17 1.38778e-17 -0.0085" rpy="3.14159 9.0895e-15 6.96076e-15"/>
      <geometry>
        <mesh filename="package://assets/hex_thin_nut_grade_a___b_m3__1f32078b7141c356c1ef5a853a7893b2.stl"/>
      </geometry>
      <material name="hex_thin_nut_grade_a___b_m3__1f32078b7141c356c1ef5a853a7893b2_material">
        <color rgba="0.603922 0.647059 0.686275 1.0"/>
      </material>
    </visual>
  </link>
  <!-- Link 4_supporthead -->
  <link name="4_supporthead">
    <inertial>
      <origin xyz="-0.0158547 -0.0129454 0.0084229" rpy="0 0 0"/>
      <mass value="0.0273657"/>
      <inertia ixx="6.25196e-06" ixy="1.01863e-06" ixz="1.61059e-06" iyy="5.8361e-06" iyz="1.31505e-06" izz="7.08366e-06"/>
    </inertial>
    <!-- Part 4_supporthead -->
    <visual>
      <origin xyz="0.0500108 0.0736879 0.0745559" rpy="-2.81984 0.659058 -1.44144e-14"/>
      <geometry>
        <mesh filename="package://assets/4_supporthead.stl"/>
      </geometry>
      <material name="4_supporthead_material">
        <color rgba="0.917647 0.917647 0.917647 1.0"/>
      </material>
    </visual>
    <!-- Part sfl676zz_4 -->
    <visual>
      <origin xyz="9.16628e-15 2.98372e-15 -0.0026" rpy="-3.14159 1.5708 0"/>
      <geometry>
        <mesh filename="package://assets/sfl676zz.stl"/>
      </geometry>
      <material name="sfl676zz_4_material">
        <color rgba="0.917647 0.917647 0.917647 1.0"/>
      </material>
    </visual>
    <!-- Part hex_thin_nut_grade_a___b_m3__1f32078b7141c356c1ef5a853a7893b2_2 -->
    <visual>
      <origin xyz="9.17322e-15 2.98372e-15 -0.0065" rpy="1.13424e-14 5.08248e-15 -1.16676e-14"/>
      <geometry>
        <mesh filename="package://assets/hex_thin_nut_grade_a___b_m3__1f32078b7141c356c1ef5a853a7893b2.stl"/>
      </geometry>
      <material name="hex_thin_nut_grade_a___b_m3__1f32078b7141c356c1ef5a853a7893b2_2_material">
        <color rgba="0.603922 0.647059 0.686275 1.0"/>
      </material>
    </visual>
    <!-- Part hex_thin_nut_grade_a___b_m3__1f32078b7141c356c1ef5a853a7893b2_3 -->
    <visual>
      <origin xyz="-0.00685348 -0.033575 0.0200434" rpy="-1.24905 0.659058 2.29931e-14"/>
      <geometry>
        <mesh filename="package://assets/hex_thin_nut_grade_a___b_m3__1f32078b7141c356c1ef5a853a7893b2.stl"/>
      </geometry>
      <material name="hex_thin_nut_grade_a___b_m3__1f32078b7141c356c1ef5a853a7893b2_3_material">
        <color rgba="0.603922 0.647059 0.686275 1.0"/>
      </material>
    </visual>
    <!-- Part hex_thin_nut_grade_a___b_m3__1f32078b7141c356c1ef5a853a7893b2_4 -->
    <visual>
      <origin xyz="-0.0342674 -6.59195e-16 0.0200434" rpy="3.39119e-14 1.31812 -1.04307e-14"/>
      <geometry>
        <mesh filename="package://assets/hex_thin_nut_grade_a___b_m3__1f32078b7141c356c1ef5a853a7893b2.stl"/>
      </geometry>
      <material name="hex_thin_nut_grade_a___b_m3__1f32078b7141c356c1ef5a853a7893b2_4_material">
        <color rgba="0.603922 0.647059 0.686275 1.0"/>
      </material>
    </visual>
    <!-- Part sfl676zz_5 -->
    <visual>
      <origin xyz="-0.00609825 -0.0298752 0.0210184" rpy="0.886077 0.25268 -1.77215"/>
      <geometry>
        <mesh filename="package://assets/sfl676zz.stl"/>
      </geometry>
      <material name="sfl676zz_5_material">
        <color rgba="0.917647 0.917647 0.917647 1.0"/>
      </material>
    </visual>
    <!-- Part sfl676zz_6 -->
    <visual>
      <origin xyz="-0.0304912 -4.85723e-16 0.0210184" rpy="-9.23743e-15 0.25268 -3.14159"/>
      <geometry>
        <mesh filename="package://assets/sfl676zz.stl"/>
      </geometry>
      <material name="sfl676zz_6_material">
        <color rgba="0.917647 0.917647 0.917647 1.0"/>
      </material>
    </visual>
  </link>
  <!-- Frame effector (dummy link + fixed joint) -->
  <link name="effector">
    <origin xyz="0 0 0" rpy="0 -0 0"/>
    <inertial>
      <origin xyz="0 0 0" rpy="0 0 0"/>
      <mass value="1e-9"/>
      <inertia ixx="0" ixy="0" ixz="0" iyy="0" iyz="0" izz="0"/>
    </inertial>
  </link>
  <joint name="effector_frame" type="fixed">
    <origin xyz="-0.0183545 -0.0149864 0.0051956" rpy="2.42787 -0.361367 -1.27367"/>
    <parent link="4_supporthead"/>
    <child link="effector"/>
    <axis xyz="0 0 0"/>
  </joint>
  <!-- Frame closing_m1_p2_2 (dummy link + fixed joint) -->
  <link name="closing_m1_p2_2">
    <origin xyz="0 0 0" rpy="0 -0 0"/>
    <inertial>
      <origin xyz="0 0 0" rpy="0 0 0"/>
      <mass value="1e-9"/>
      <inertia ixx="0" ixy="0" ixz="0" iyy="0" iyz="0" izz="0"/>
    </inertial>
  </link>
  <joint name="closing_m1_p2_2_frame" type="fixed">
    <origin xyz="-0.0279738 -5.82867e-16 0.0216684" rpy="-1.82348 -7.45088e-15 1.5708"/>
    <parent link="4_supporthead"/>
    <child link="closing_m1_p2_2"/>
    <axis xyz="0 0 0"/>
  </joint>
  <!-- Frame closing_m3_p2_2 (dummy link + fixed joint) -->
  <link name="closing_m3_p2_2">
    <origin xyz="0 0 0" rpy="0 -0 0"/>
    <inertial>
      <origin xyz="0 0 0" rpy="0 0 0"/>
      <mass value="1e-9"/>
      <inertia ixx="0" ixy="0" ixz="0" iyy="0" iyz="0" izz="0"/>
    </inertial>
  </link>
  <joint name="closing_m3_p2_2_frame" type="fixed">
    <origin xyz="-0.00559476 -0.0274086 0.0216684" rpy="1.95839 -0.848062 -0.49848"/>
    <parent link="4_supporthead"/>
    <child link="closing_m3_p2_2"/>
    <axis xyz="0 0 0"/>
  </joint>
  <!-- Joint from 3_lien2 to 4_supporthead -->
  <joint name="m2_p2" type="revolute">
    <origin xyz="0.0279738 2.2829e-15 -0.0497913" rpy="-3.36345e-14 -1.31812 6.54005e-15"/>
    <parent link="3_lien2"/>
    <child link="4_supporthead"/>
    <axis xyz="0 0 1"/>
    <limit effort="10" velocity="10" lower="-3.141592653589793" upper="3.141592653589793"/>
  </joint>
  <!-- Joint from 2_arbremoteur3 to 3_lien2 -->
  <joint name="m1_p1" type="revolute">
    <origin xyz="0.0260678 -0.0319264 -0.0619264" rpy="1.31313 0.19488 0.633732"/>
    <parent link="2_arbremoteur3"/>
    <child link="3_lien2"/>
    <axis xyz="0 0 1"/>
    <limit effort="10" velocity="10" lower="-3.141592653589793" upper="3.141592653589793"/>
  </joint>
  <!-- Joint from moteur_bati_v2 to 2_arbremoteur3 -->
  <joint name="m1" type="revolute">
    <origin xyz="-0.0513137 2.95076e-15 0.0612132" rpy="2.35619 -9.97813e-15 -1.5708"/>
    <parent link="moteur_bati_v2"/>
    <child link="2_arbremoteur3"/>
    <axis xyz="0 0 1"/>
    <limit effort="10" velocity="10" lower="-3.141592653589793" upper="3.141592653589793"/>
  </joint>
  <!-- Link 2_arbremoteur3_2 -->
  <link name="2_arbremoteur3_2">
    <inertial>
      <origin xyz="-0.0107909 0.00909413 -0.0175921" rpy="0 0 0"/>
      <mass value="0.0293635"/>
      <inertia ixx="1.73972e-05" ixy="4.85555e-06" ixz="-6.98022e-06" iyy="1.81718e-05" iyz="7.26176e-06" izz="1.24115e-05"/>
    </inertial>
    <!-- Part dbtm3_14_5_3 -->
    <visual>
      <origin xyz="-0.0307218 0.0376264 -0.0600264" rpy="-1.36944 0.25268 -0.886077"/>
      <geometry>
        <mesh filename="package://assets/dbtm3_14_5.stl"/>
      </geometry>
      <material name="dbtm3_14_5_3_material">
        <color rgba="0.690196 0.690196 0.690196 1.0"/>
      </material>
    </visual>
    <!-- Part 2_arbremoteur3_2 -->
    <visual>
      <origin xyz="-0.0115732 0.04 0.0184386" rpy="-1.5708 -9.02412e-15 3.14159"/>
      <geometry>
        <mesh filename="package://assets/2_arbremoteur3.stl"/>
      </geometry>
      <material name="2_arbremoteur3_2_material">
        <color rgba="0.615686 0.811765 0.929412 1.0"/>
      </material>
    </visual>
    <collision>
      <origin xyz="-0.0115732 0.04 0.0184386" rpy="-1.5708 -9.02412e-15 3.14159"/>
      <geometry>
        <mesh filename="package://assets/2_arbremoteur3.stl"/>
      </geometry>
    </collision>
    <!-- Part sfl676zz_7 -->
    <visual>
      <origin xyz="-0.0288847 0.0353764 -0.0607764" rpy="-1.77215 -0.25268 2.25552"/>
      <geometry>
        <mesh filename="package://assets/sfl676zz.stl"/>
      </geometry>
      <material name="sfl676zz_7_material">
        <color rgba="0.917647 0.917647 0.917647 1.0"/>
      </material>
    </visual>
  </link>
  <!-- Link 3_lien2_2 -->
  <link name="3_lien2_2">
    <inertial>
      <origin xyz="0.0153881 0.00162035 -0.0217923" rpy="0 0 0"/>
      <mass value="0.0118051"/>
      <inertia ixx="3.6573e-06" ixy="-1.03018e-07" ixz="1.62019e-06" iyy="4.83538e-06" iyz="-2.61509e-08" izz="1.52639e-06"/>
    </inertial>
    <!-- Part dbtm3_14_5_4 -->
    <visual>
      <origin xyz="0.0206151 1.70697e-15 -0.0478913" rpy="3.14159 0.25268 -1.37782e-14"/>
      <geometry>
        <mesh filename="package://assets/dbtm3_14_5.stl"/>
      </geometry>
      <material name="dbtm3_14_5_4_material">
        <color rgba="0.690196 0.690196 0.690196 1.0"/>
      </material>
    </visual>
    <!-- Part sfl676zz_8 -->
    <visual>
      <origin xyz="-6.93889e-18 0 -0.0046" rpy="-3.14159 1.5708 0"/>
      <geometry>
        <mesh filename="package://assets/sfl676zz.stl"/>
      </geometry>
      <material name="sfl676zz_8_material">
        <color rgba="0.917647 0.917647 0.917647 1.0"/>
      </material>
    </visual>
    <!-- Part sfl676zz_9 -->
    <visual>
      <origin xyz="0.0235199 1.66533e-15 -0.0486413" rpy="-2.78626e-15 -0.25268 3.14159"/>
      <geometry>
        <mesh filename="package://assets/sfl676zz.stl"/>
      </geometry>
      <material name="sfl676zz_9_material">
        <color rgba="0.917647 0.917647 0.917647 1.0"/>
      </material>
    </visual>
    <!-- Part 3_lien2_2 -->
    <visual>
      <origin xyz="-0.031712 0.0736879 0.0172703" rpy="-2.81984 -0.659058 -1.54845e-14"/>
      <geometry>
        <mesh filename="package://assets/3_lien2.stl"/>
      </geometry>
      <material name="3_lien2_2_material">
        <color rgba="0.647059 0.647059 0.647059 1.0"/>
      </material>
    </visual>
    <collision>
      <origin xyz="-0.031712 0.0736879 0.0172703" rpy="-2.81984 -0.659058 -1.54845e-14"/>
      <geometry>
        <mesh filename="package://assets/3_lien2.stl"/>
      </geometry>
    </collision>
    <!-- Part hex_thin_nut_grade_a___b_m3__1f32078b7141c356c1ef5a853a7893b2_5 -->
    <visual>
      <origin xyz="0 -6.93889e-18 -0.0085" rpy="3.14159 3.02103e-15 -3.1485e-14"/>
      <geometry>
        <mesh filename="package://assets/hex_thin_nut_grade_a___b_m3__1f32078b7141c356c1ef5a853a7893b2.stl"/>
      </geometry>
      <material name="hex_thin_nut_grade_a___b_m3__1f32078b7141c356c1ef5a853a7893b2_5_material">
        <color rgba="0.603922 0.647059 0.686275 1.0"/>
      </material>
    </visual>
  </link>
  <!-- Frame closing_m3_p2_1 (dummy link + fixed joint) -->
  <link name="closing_m3_p2_1">
    <origin xyz="0 0 0" rpy="0 -0 0"/>
    <inertial>
      <origin xyz="0 0 0" rpy="0 0 0"/>
      <mass value="1e-9"/>
      <inertia ixx="0" ixy="0" ixz="0" iyy="0" iyz="0" izz="0"/>
    </inertial>
  </link>
  <joint name="closing_m3_p2_1_frame" type="fixed">
    <origin xyz="0.0279738 1.6237e-15 -0.0497913" rpy="-3.14159 -1.31812 -1.81564e-14"/>
    <parent link="3_lien2_2"/>
    <child link="closing_m3_p2_1"/>
    <axis xyz="0 0 0"/>
  </joint>
  <!-- Joint from 2_arbremoteur3_2 to 3_lien2_2 -->
  <joint name="m2_p1" type="revolute">
    <origin xyz="-0.0260678 0.0319264 -0.0619264" rpy="1.31313 0.19488 -2.50786"/>
    <parent link="2_arbremoteur3_2"/>
    <child link="3_lien2_2"/>
    <axis xyz="0 0 1"/>
    <limit effort="10" velocity="10" lower="-3.141592653589793" upper="3.141592653589793"/>
  </joint>
  <!-- Joint from moteur_bati_v2 to 2_arbremoteur3_2 -->
  <joint name="m2" type="revolute">
    <origin xyz="0.0256569 -0.044439 0.0612132" rpy="-2.35619 1.99341e-16 -2.61799"/>
    <parent link="moteur_bati_v2"/>
    <child link="2_arbremoteur3_2"/>
    <axis xyz="0 0 1"/>
    <limit effort="10" velocity="10" lower="-3.141592653589793" upper="3.141592653589793"/>
  </joint>
  <!-- Link 2_arbremoteur3_3 -->
  <link name="2_arbremoteur3_3">
    <inertial>
      <origin xyz="-0.0107909 0.00909413 -0.0175921" rpy="0 0 0"/>
      <mass value="0.0293635"/>
      <inertia ixx="1.73972e-05" ixy="4.85555e-06" ixz="-6.98022e-06" iyy="1.81718e-05" iyz="7.26176e-06" izz="1.24115e-05"/>
    </inertial>
    <!-- Part dbtm3_14_5_5 -->
    <visual>
      <origin xyz="-0.0307218 0.0376264 -0.0600264" rpy="-1.36944 0.25268 -0.886077"/>
      <geometry>
        <mesh filename="package://assets/dbtm3_14_5.stl"/>
      </geometry>
      <material name="dbtm3_14_5_5_material">
        <color rgba="0.690196 0.690196 0.690196 1.0"/>
      </material>
    </visual>
    <!-- Part 2_arbremoteur3_3 -->
    <visual>
      <origin xyz="-0.0115732 0.04 0.0184386" rpy="-1.5708 -9.09611e-16 3.14159"/>
      <geometry>
        <mesh filename="package://assets/2_arbremoteur3.stl"/>
      </geometry>
      <material name="2_arbremoteur3_3_material">
        <color rgba="0.615686 0.811765 0.929412 1.0"/>
      </material>
    </visual>
    <collision>
      <origin xyz="-0.0115732 0.04 0.0184386" rpy="-1.5708 -9.09611e-16 3.14159"/>
      <geometry>
        <mesh filename="package://assets/2_arbremoteur3.stl"/>
      </geometry>
    </collision>
    <!-- Part sfl676zz_10 -->
    <visual>
      <origin xyz="-0.0288847 0.0353764 -0.0607764" rpy="-1.77215 -0.25268 2.25552"/>
      <geometry>
        <mesh filename="package://assets/sfl676zz.stl"/>
      </geometry>
      <material name="sfl676zz_10_material">
        <color rgba="0.917647 0.917647 0.917647 1.0"/>
      </material>
    </visual>
  </link>
  <!-- Link 3_lien2_3 -->
  <link name="3_lien2_3">
    <inertial>
      <origin xyz="0.0153881 0.00162035 -0.0217923" rpy="0 0 0"/>
      <mass value="0.0118051"/>
      <inertia ixx="3.6573e-06" ixy="-1.03018e-07" ixz="1.62019e-06" iyy="4.83538e-06" iyz="-2.61509e-08" izz="1.52639e-06"/>
    </inertial>
    <!-- Part dbtm3_14_5_6 -->
    <visual>
      <origin xyz="0.0206151 2.01922e-15 -0.0478913" rpy="-3.14159 0.25268 1.30264e-15"/>
      <geometry>
        <mesh filename="package://assets/dbtm3_14_5.stl"/>
      </geometry>
      <material name="dbtm3_14_5_6_material">
        <color rgba="0.690196 0.690196 0.690196 1.0"/>
      </material>
    </visual>
    <!-- Part sfl676zz_11 -->
    <visual>
      <origin xyz="1.38778e-17 -4.85723e-17 -0.0046" rpy="3.14159 1.5708 0"/>
      <geometry>
        <mesh filename="package://assets/sfl676zz.stl"/>
      </geometry>
      <material name="sfl676zz_11_material">
        <color rgba="0.917647 0.917647 0.917647 1.0"/>
      </material>
    </visual>
    <!-- Part sfl676zz_12 -->
    <visual>
      <origin xyz="0.0235199 2.01228e-15 -0.0486413" rpy="-1.22286e-15 -0.25268 -3.14159"/>
      <geometry>
        <mesh filename="package://assets/sfl676zz.stl"/>
      </geometry>
      <material name="sfl676zz_12_material">
        <color rgba="0.917647 0.917647 0.917647 1.0"/>
      </material>
    </visual>
    <!-- Part 3_lien2_3 -->
    <visual>
      <origin xyz="-0.031712 0.0736879 0.0172703" rpy="-2.81984 -0.659058 -3.26688e-17"/>
      <geometry>
        <mesh filename="package://assets/3_lien2.stl"/>
      </geometry>
      <material name="3_lien2_3_material">
        <color rgba="0.647059 0.647059 0.647059 1.0"/>
      </material>
    </visual>
    <collision>
      <origin xyz="-0.031712 0.0736879 0.0172703" rpy="-2.81984 -0.659058 -3.26688e-17"/>
      <geometry>
        <mesh filename="package://assets/3_lien2.stl"/>
      </geometry>
    </collision>
    <!-- Part hex_thin_nut_grade_a___b_m3__1f32078b7141c356c1ef5a853a7893b2_6 -->
    <visual>
      <origin xyz="0 6.93889e-18 -0.0085" rpy="3.14159 2.50939e-14 6.60272e-15"/>
      <geometry>
        <mesh filename="package://assets/hex_thin_nut_grade_a___b_m3__1f32078b7141c356c1ef5a853a7893b2.stl"/>
      </geometry>
      <material name="hex_thin_nut_grade_a___b_m3__1f32078b7141c356c1ef5a853a7893b2_6_material">
        <color rgba="0.603922 0.647059 0.686275 1.0"/>
      </material>
    </visual>
  </link>
  <!-- Frame closing_m1_p2_1 (dummy link + fixed joint) -->
  <link name="closing_m1_p2_1">
    <origin xyz="0 0 0" rpy="0 -0 0"/>
    <inertial>
      <origin xyz="0 0 0" rpy="0 0 0"/>
      <mass value="1e-9"/>
      <inertia ixx="0" ixy="0" ixz="0" iyy="0" iyz="0" izz="0"/>
    </inertial>
  </link>
  <joint name="closing_m1_p2_1_frame" type="fixed">
    <origin xyz="0.0279738 2.02616e-15 -0.0497913" rpy="-3.14159 -1.31812 -1.62357e-15"/>
    <parent link="3_lien2_3"/>
    <child link="closing_m1_p2_1"/>
    <axis xyz="0 0 0"/>
  </joint>
  <!-- Joint from 2_arbremoteur3_3 to 3_lien2_3 -->
  <joint name="m3_p1" type="revolute">
    <origin xyz="-0.0260678 0.0319264 -0.0619264" rpy="1.31313 0.19488 -2.50786"/>
    <parent link="2_arbremoteur3_3"/>
    <child link="3_lien2_3"/>
    <axis xyz="0 0 1"/>
    <limit effort="10" velocity="10" lower="-3.141592653589793" upper="3.141592653589793"/>
  </joint>
  <!-- Joint from moteur_bati_v2 to 2_arbremoteur3_3 -->
  <joint name="m3" type="revolute">
    <origin xyz="0.0256569 0.044439 0.0612132" rpy="-2.35619 3.18634e-14 -0.523599"/>
    <parent link="moteur_bati_v2"/>
    <child link="2_arbremoteur3_3"/>
    <axis xyz="0 0 1"/>
    <limit effort="10" velocity="10" lower="-3.141592653589793" upper="3.141592653589793"/>
  </joint>
</robot>
